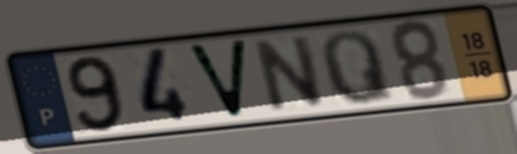4: (135, 44, 198, 129)
8: (388, 17, 453, 106)
9: (65, 53, 128, 136)
N: (252, 32, 328, 116)
Q: (317, 28, 398, 108)
V: (183, 37, 251, 122)
